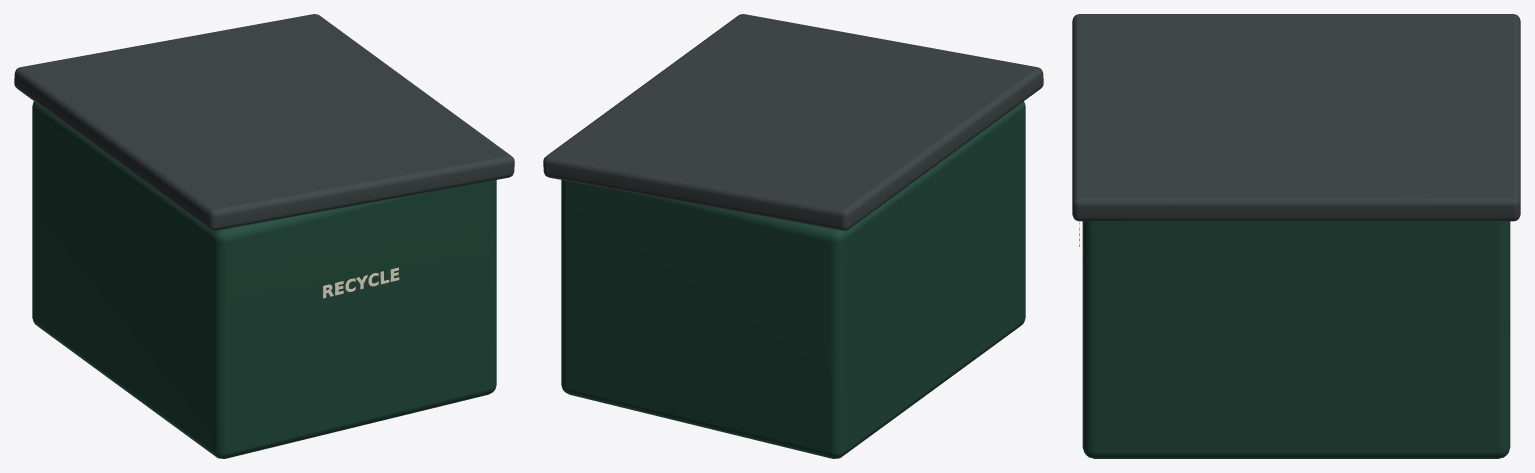
The model's file is SM_EG_CommercialRefuseContainer_4c4da787a6.fbx.
3 views of the same model, side by side, from view 1: azimuth 30°, elevation 25°; view 2: azimuth 150°, elevation 25°; view 3: azimuth 270°, elevation 25° (orthographic). The views are drawn at different scales.
Visible parts, largest first — view 1: SM_EG_CommercialRefuseContainer_4c4da787a6; view 2: SM_EG_CommercialRefuseContainer_4c4da787a6; view 3: SM_EG_CommercialRefuseContainer_4c4da787a6.
Boxes of the visible parts, x1=… form: SM_EG_CommercialRefuseContainer_4c4da787a6: x1=14, y1=14, x2=514, y2=458; SM_EG_CommercialRefuseContainer_4c4da787a6: x1=543, y1=14, x2=1043, y2=458; SM_EG_CommercialRefuseContainer_4c4da787a6: x1=1072, y1=14, x2=1520, y2=458.
Size of what is drawn, in the model's own units: 195 by 220 by 160.
